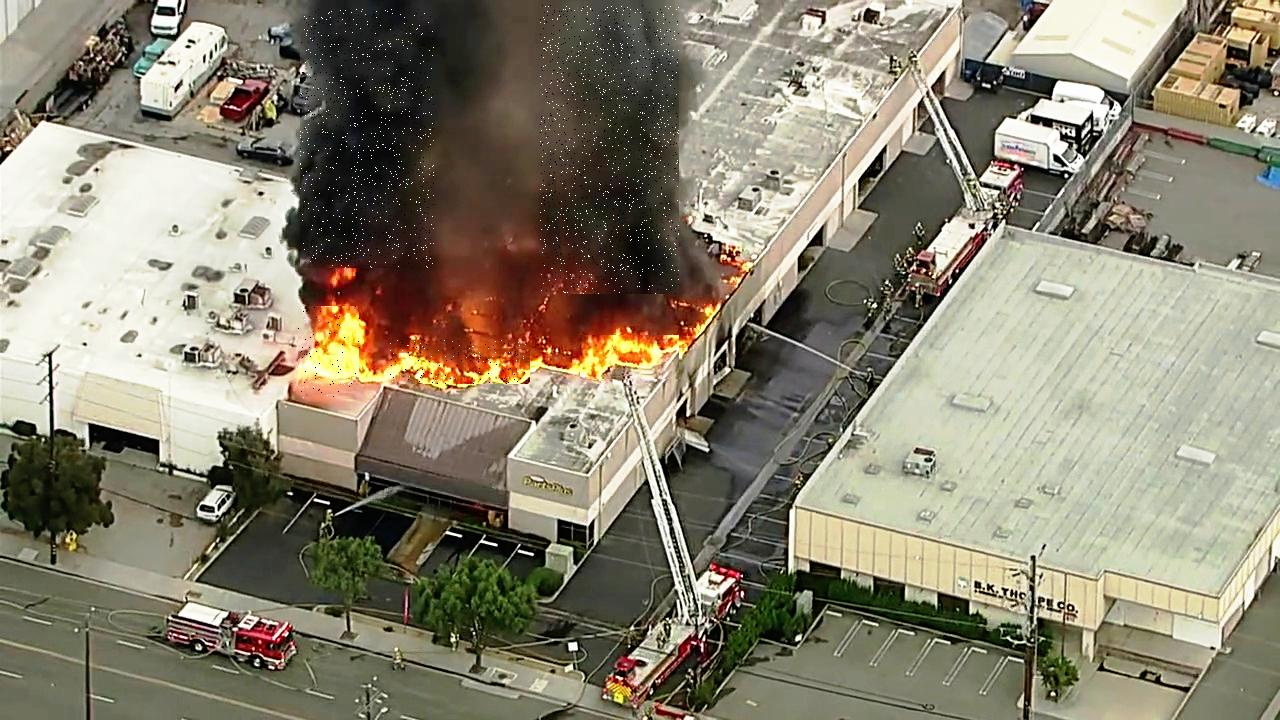fire: (389, 340, 530, 384), (299, 307, 362, 399), (581, 335, 682, 379)
smoke: (540, 5, 679, 294), (300, 9, 434, 268)
